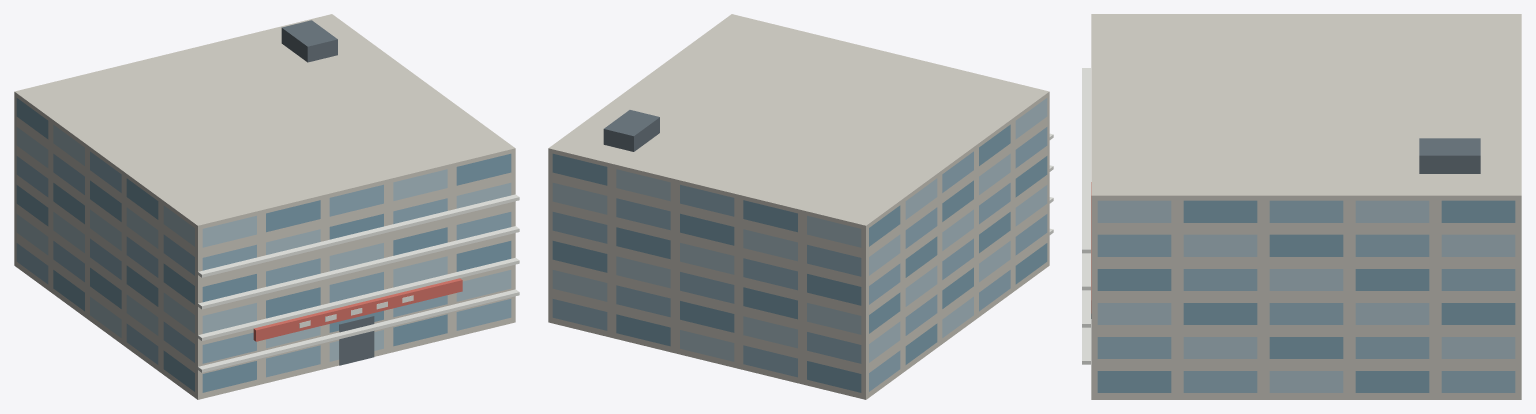
The model's file is korea-building-3-compact.glb.
3 renders of one model, left to right at view 1: azimuth 30°, elevation 25°; view 2: azimuth 150°, elevation 25°; view 3: azimuth 270°, elevation 25°, orthographic. The views are drawn at different scales.
Bounding box in the file's own units: 10.52 × 6 × 10.74.
